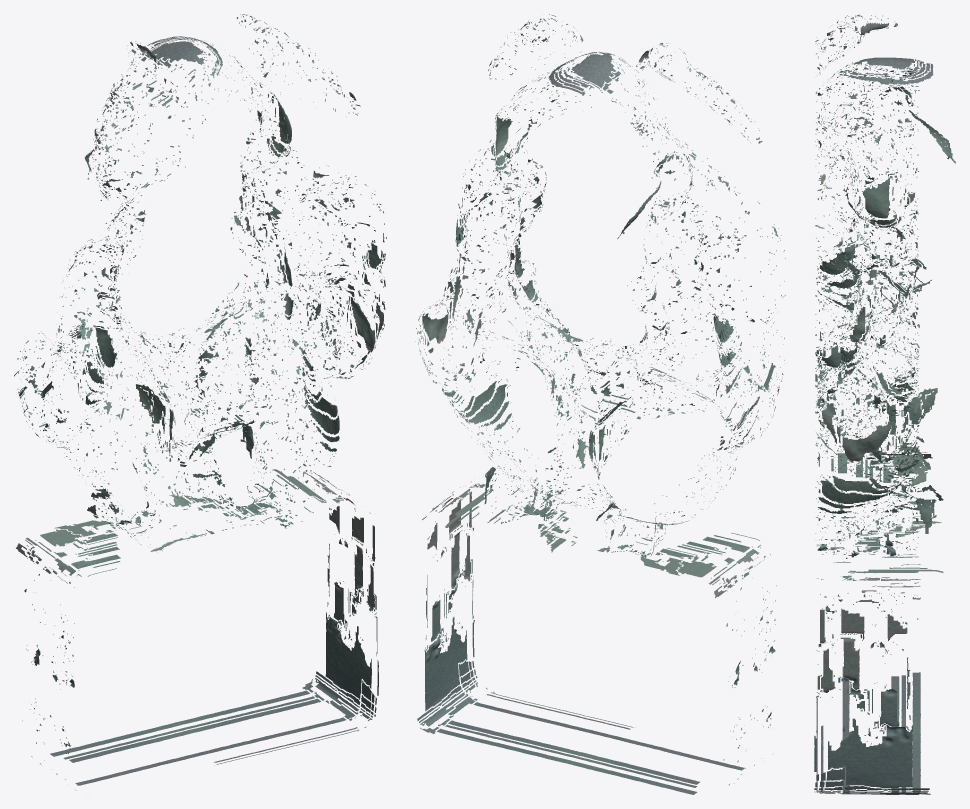
Rendered from cthulhu17_material_0.019_lev1.glb.
The picture shows the model from 3 angles, left to right: view 1: azimuth 30°, elevation 25°; view 2: azimuth 150°, elevation 25°; view 3: azimuth 270°, elevation 25°; orthographic projection. The views are drawn at different scales.
Parts seen in each view (by area): view 1: cthulhu17_material_0.019_lev1; view 2: cthulhu17_material_0.019_lev1; view 3: cthulhu17_material_0.019_lev1.
Part boxes in pixels (x1,y1,x2,y2): cthulhu17_material_0.019_lev1: (14, 14, 386, 790); cthulhu17_material_0.019_lev1: (415, 14, 785, 794); cthulhu17_material_0.019_lev1: (814, 14, 955, 794).
Size of the model in its own units: 2.73 by 5.53 by 1.03.
